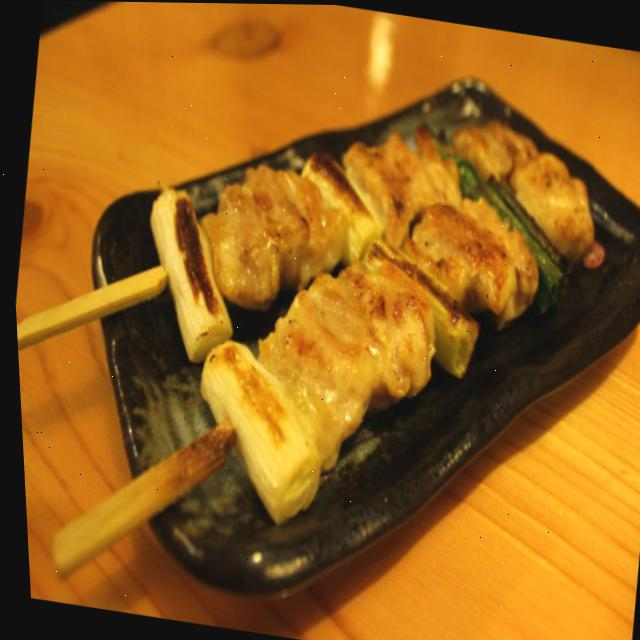烧串烤肉: (0, 1, 640, 640)
